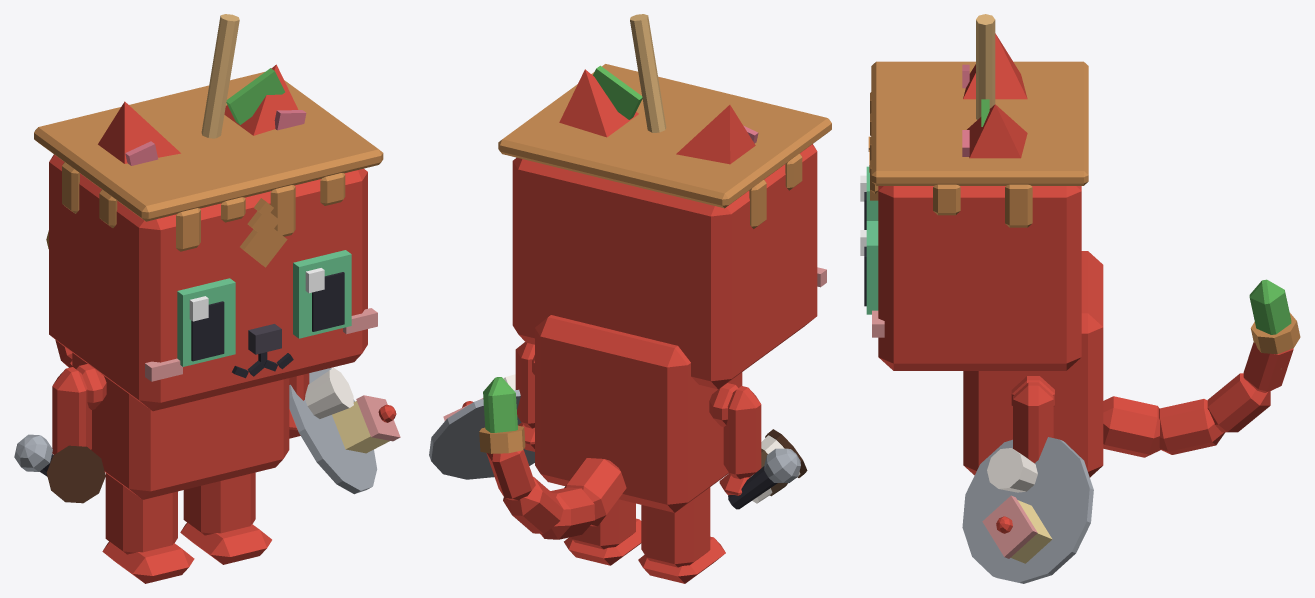
Rendered from CatCafe_Cat_CandyApple_Work.glb.
3 renders of one model, left to right at view 1: azimuth 30°, elevation 25°; view 2: azimuth 150°, elevation 25°; view 3: azimuth 270°, elevation 25°, orthographic. The views are drawn at different scales.
Parts seen in each view (by area): view 1: CatCafe_Cat_CandyApple_Work_Head, CatCafe_Cat_CandyApple_Work_Prop, CatCafe_Cat_CandyApple_Work_Body, CatCafe_Cat_CandyApple_Work_Held_Waiter, CatCafe_Cat_CandyApple_Work_LegB2, CatCafe_Cat_CandyApple_Work_LegB1, CatCafe_Cat_CandyApple_Work_Eye1, CatCafe_Cat_CandyApple_Work_Eye2, CatCafe_Cat_CandyApple_Work_LegF2, CatCafe_Cat_CandyApple_Work_EarR, CatCafe_Cat_CandyApple_Work_Held_Barista, CatCafe_Cat_CandyApple_Work_EarL (+2 smaller); view 2: CatCafe_Cat_CandyApple_Work_Head, CatCafe_Cat_CandyApple_Work_Body, CatCafe_Cat_CandyApple_Work_Prop, CatCafe_Cat_CandyApple_Work_Tail, CatCafe_Cat_CandyApple_Work_LegB2, CatCafe_Cat_CandyApple_Work_Held_Waiter, CatCafe_Cat_CandyApple_Work_LegF2, CatCafe_Cat_CandyApple_Work_LegB1, CatCafe_Cat_CandyApple_Work_EarR, CatCafe_Cat_CandyApple_Work_EarL, CatCafe_Cat_CandyApple_Work_Held_Entertainer, CatCafe_Cat_CandyApple_Work_LegF1 (+2 smaller); view 3: CatCafe_Cat_CandyApple_Work_Head, CatCafe_Cat_CandyApple_Work_Prop, CatCafe_Cat_CandyApple_Work_Held_Waiter, CatCafe_Cat_CandyApple_Work_Body, CatCafe_Cat_CandyApple_Work_Tail, CatCafe_Cat_CandyApple_Work_LegF1, CatCafe_Cat_CandyApple_Work_EarL, CatCafe_Cat_CandyApple_Work_EarR, CatCafe_Cat_CandyApple_Work_Eye1, CatCafe_Cat_CandyApple_Work_Tail_Caramel, CatCafe_Cat_CandyApple_Work_Eye2.
Part boxes in pixels (<box>): CatCafe_Cat_CandyApple_Work_Head: <box>49,154,377,411</box>; CatCafe_Cat_CandyApple_Work_Prop: <box>34,14,383,251</box>; CatCafe_Cat_CandyApple_Work_Body: <box>72,353,289,499</box>; CatCafe_Cat_CandyApple_Work_Held_Waiter: <box>289,367,400,494</box>; CatCafe_Cat_CandyApple_Work_LegB2: <box>102,473,194,583</box>; CatCafe_Cat_CandyApple_Work_LegB1: <box>180,472,271,564</box>; CatCafe_Cat_CandyApple_Work_Eye1: <box>293,250,351,338</box>; CatCafe_Cat_CandyApple_Work_Eye2: <box>177,278,235,366</box>; CatCafe_Cat_CandyApple_Work_LegF2: <box>52,367,91,454</box>; CatCafe_Cat_CandyApple_Work_EarR: <box>98,101,180,165</box>; CatCafe_Cat_CandyApple_Work_Held_Barista: <box>46,445,105,503</box>; CatCafe_Cat_CandyApple_Work_EarL: <box>224,64,306,135</box>; CatCafe_Cat_CandyApple_Work_Head: <box>512,144,826,389</box>; CatCafe_Cat_CandyApple_Work_Body: <box>532,315,742,512</box>; CatCafe_Cat_CandyApple_Work_Prop: <box>498,14,831,228</box>; CatCafe_Cat_CandyApple_Work_Tail: <box>483,377,626,539</box>; CatCafe_Cat_CandyApple_Work_LegB2: <box>638,487,725,583</box>; CatCafe_Cat_CandyApple_Work_Held_Waiter: <box>429,374,534,479</box>; CatCafe_Cat_CandyApple_Work_LegF2: <box>719,386,761,495</box>; CatCafe_Cat_CandyApple_Work_LegB1: <box>564,499,641,565</box>; CatCafe_Cat_CandyApple_Work_EarR: <box>676,105,758,164</box>; CatCafe_Cat_CandyApple_Work_EarL: <box>559,69,638,137</box>; CatCafe_Cat_CandyApple_Work_Held_Entertainer: <box>728,448,800,509</box>; CatCafe_Cat_CandyApple_Work_LegF1: <box>515,342,534,451</box>; CatCafe_Cat_CandyApple_Work_Head: <box>868,136,1081,370</box>; CatCafe_Cat_CandyApple_Work_Prop: <box>870,14,1088,227</box>; CatCafe_Cat_CandyApple_Work_Held_Waiter: <box>962,437,1093,583</box>; CatCafe_Cat_CandyApple_Work_Body: <box>963,251,1103,477</box>; CatCafe_Cat_CandyApple_Work_Tail: <box>1103,279,1293,457</box>; CatCafe_Cat_CandyApple_Work_LegF1: <box>1013,382,1053,463</box>; CatCafe_Cat_CandyApple_Work_EarL: <box>962,104,1027,158</box>; CatCafe_Cat_CandyApple_Work_EarR: <box>962,33,1027,99</box>; CatCafe_Cat_CandyApple_Work_Eye1: <box>860,221,878,314</box>; CatCafe_Cat_CandyApple_Work_Tail_Caramel: <box>1250,313,1300,369</box>; CatCafe_Cat_CandyApple_Work_Eye2: <box>860,166,878,229</box>.
Size of the model in its own units: 1.53 by 2.18 by 1.64.
Materials: 1 (1 with a texture image).
